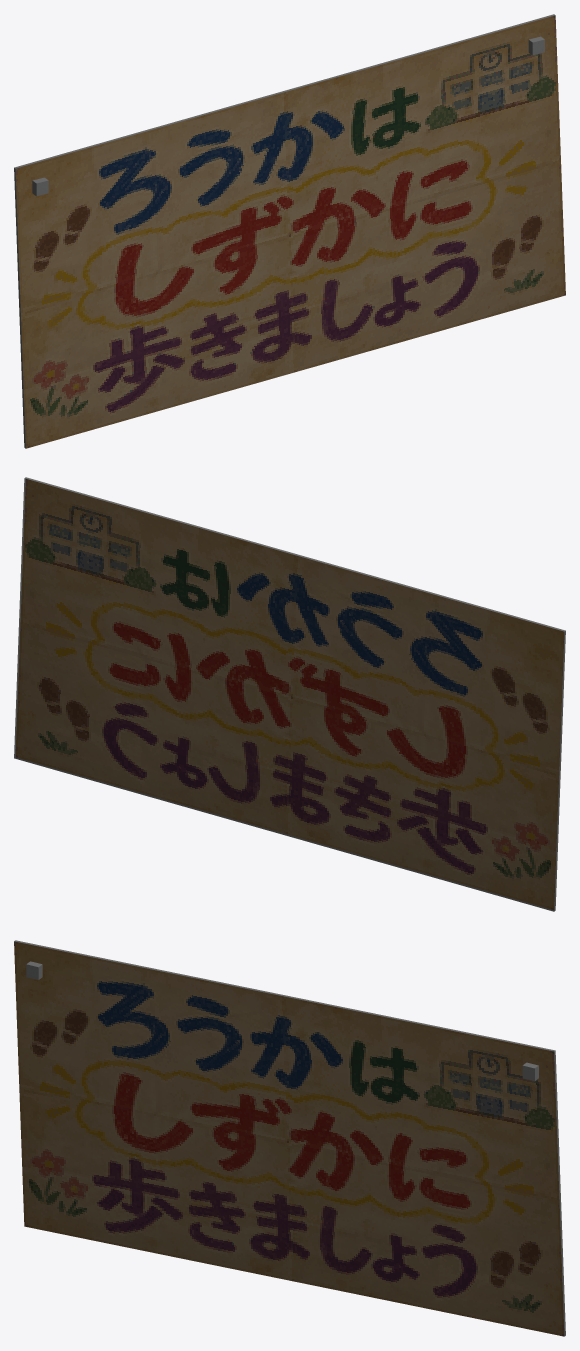
Rendered from prop_poster-rouka-3.glb.
The picture shows the model from 3 angles, top to bottom: view 1: azimuth 30°, elevation 25°; view 2: azimuth 150°, elevation 25°; view 3: azimuth 330°, elevation 25°; orthographic projection.
Visible parts, largest first — view 1: prop_poster-rouka-3; view 2: prop_poster-rouka-3; view 3: prop_poster-rouka-3.
Boxes of the visible parts, box(x1,y1,x2,y2) form: prop_poster-rouka-3: box(14, 14, 565, 448); prop_poster-rouka-3: box(14, 477, 565, 911); prop_poster-rouka-3: box(14, 940, 565, 1336).
Size of the model in its own units: 0.6257 by 0.3305 by 0.0115.
2 materials, 2 textured.
